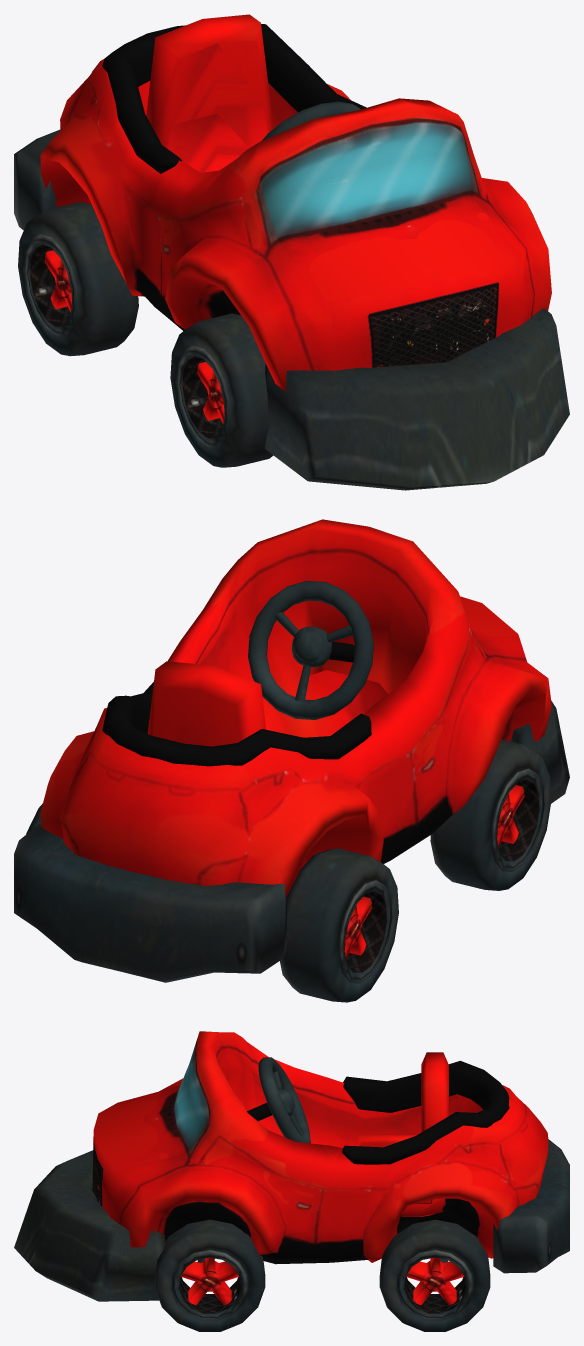
The model's file is RedTRuck_Kart.fbx.
The picture shows the model from 3 angles, top to bottom: view 1: azimuth 30°, elevation 25°; view 2: azimuth 150°, elevation 25°; view 3: azimuth 270°, elevation 25°; orthographic projection. The views are drawn at different scales.
Visible parts, largest first — view 1: Body, Wheel_RR, Wheel_FR, Stearing_Wheel; view 2: Body, Wheel_RR, Wheel_FR, Stearing_Wheel; view 3: Body, Wheel_RL, Wheel_FL, Stearing_Wheel.
Boxes of the visible parts, <box> form: Body: <box>14,14,569,490</box>; Wheel_RR: <box>18,202,138,356</box>; Wheel_FR: <box>170,313,273,467</box>; Stearing_Wheel: <box>262,101,360,140</box>; Body: <box>14,519,569,982</box>; Wheel_RR: <box>280,848,398,1002</box>; Wheel_FR: <box>430,739,551,890</box>; Stearing_Wheel: <box>248,580,373,719</box>; Body: <box>14,1031,569,1301</box>; Wheel_RL: <box>379,1219,490,1331</box>; Wheel_FL: <box>154,1219,265,1331</box>; Stearing_Wheel: <box>247,1057,310,1143</box>.
Bounding box in the file's own units: 10.57 × 9.77 × 21.08.
Materials: 1 (1 with a texture image).
